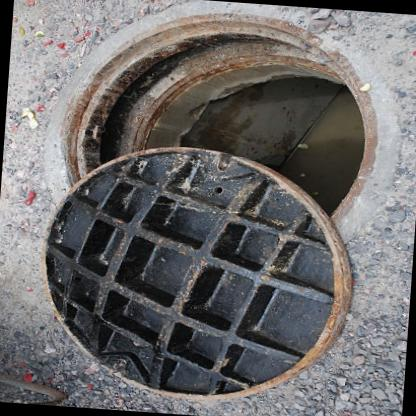manholes: (22, 0, 399, 416)
